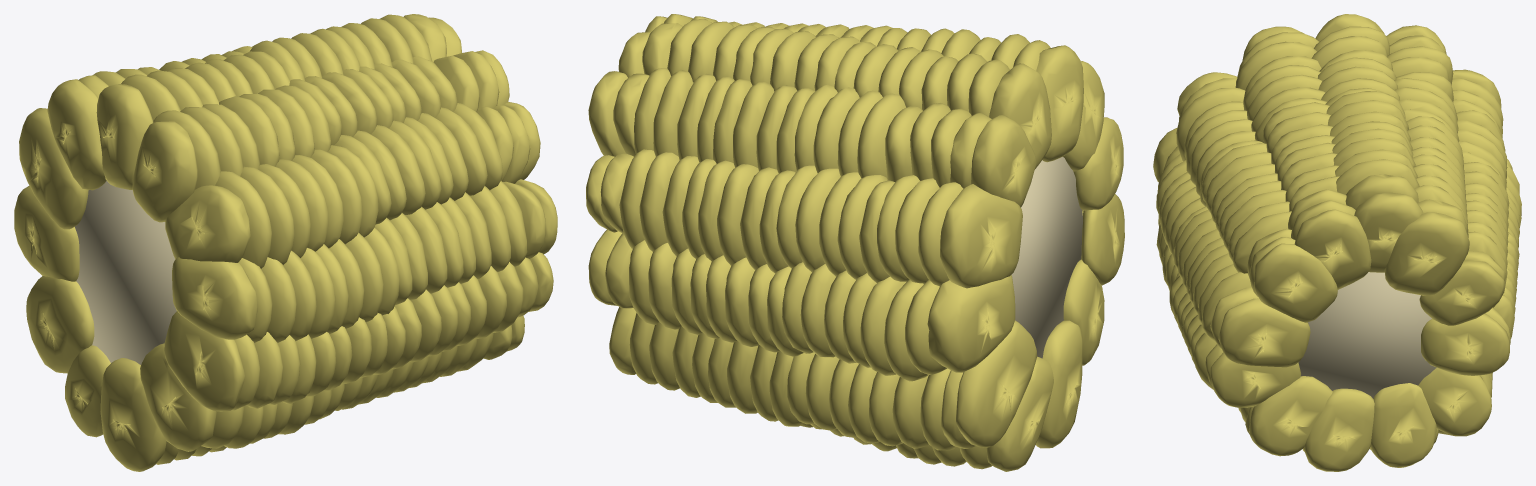
Rendered from corn.fbx.
3 renders of one model, left to right at view 1: azimuth 30°, elevation 25°; view 2: azimuth 150°, elevation 25°; view 3: azimuth 270°, elevation 25°, orthographic. The views are drawn at different scales.
Visible parts, largest first — view 1: corn, corncob; view 2: corn, corncob; view 3: corn, corncob.
Boxes of the visible parts, x1,y1,x2,y2 form: corn: [14, 14, 557, 471]; corncob: [75, 180, 176, 364]; corn: [586, 14, 1124, 471]; corncob: [1011, 157, 1082, 358]; corn: [1153, 14, 1521, 471]; corncob: [1298, 272, 1436, 398].
Size of the model in its own units: 0.2751 by 0.2419 by 0.2404.
